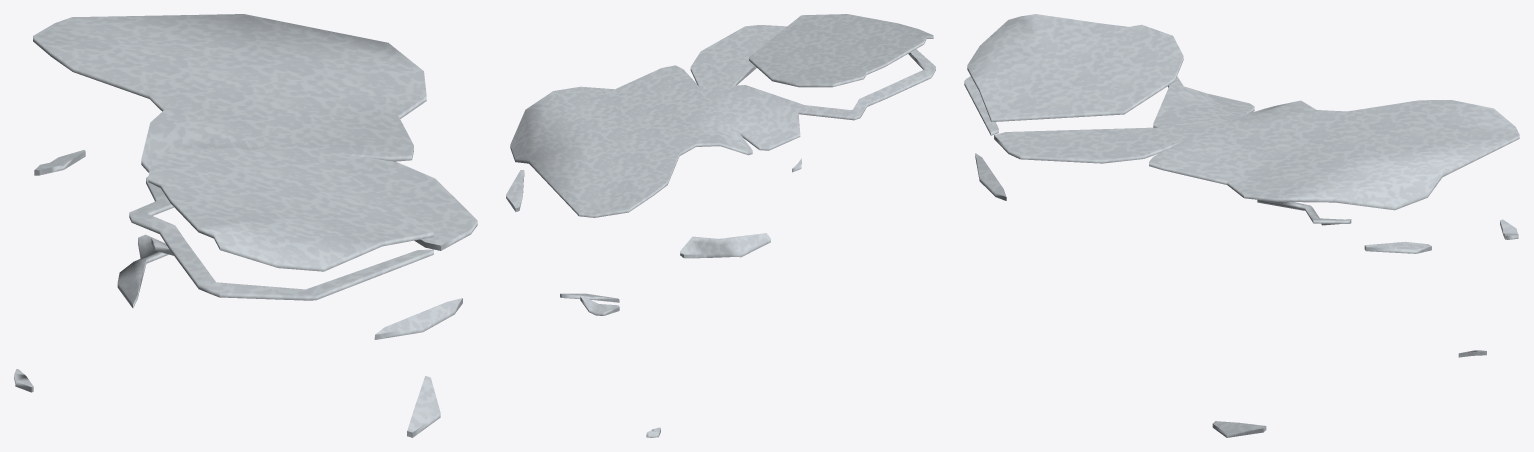
Rendered from Cliff_4_Snow.fbx.
The picture shows the model from 3 angles, left to right: view 1: azimuth 30°, elevation 25°; view 2: azimuth 150°, elevation 25°; view 3: azimuth 270°, elevation 25°; orthographic projection. The views are drawn at different scales.
Parts seen in each view (by area): view 1: Cliff_4_Snow; view 2: Cliff_4_Snow; view 3: Cliff_4_Snow.
Boxes of the visible parts, x1,y1,x2,y2 form: Cliff_4_Snow: (14, 14, 477, 437); Cliff_4_Snow: (506, 14, 935, 437); Cliff_4_Snow: (964, 14, 1519, 437).
Bounding box in the file's own units: 6173 × 5945 × 9878.
